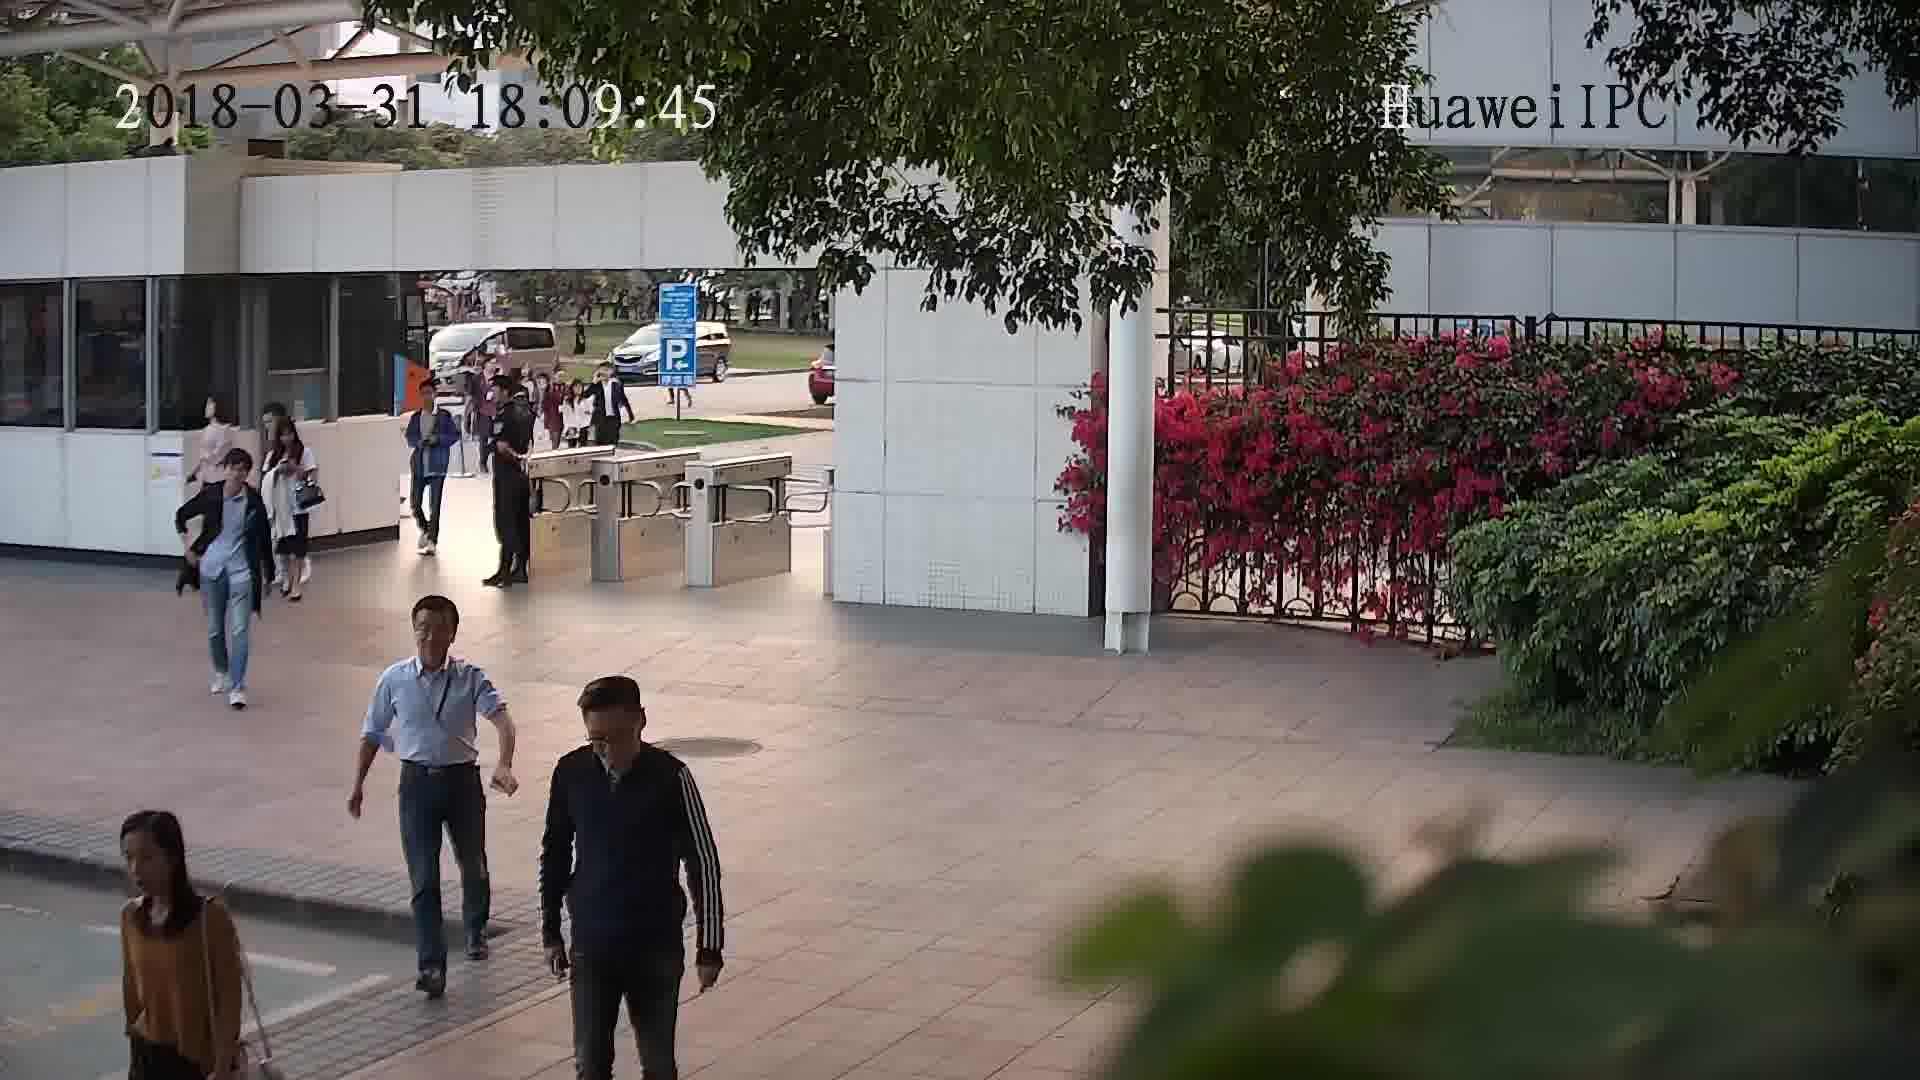face: (110, 829, 179, 898), (580, 700, 648, 768), (406, 609, 461, 664)
person: (548, 672, 692, 793), (115, 804, 232, 937), (376, 589, 499, 700), (189, 445, 263, 518), (258, 401, 307, 458), (407, 376, 456, 427), (195, 385, 238, 440), (489, 371, 530, 425), (470, 353, 505, 393), (560, 379, 593, 415), (591, 360, 625, 393), (541, 367, 572, 398)
